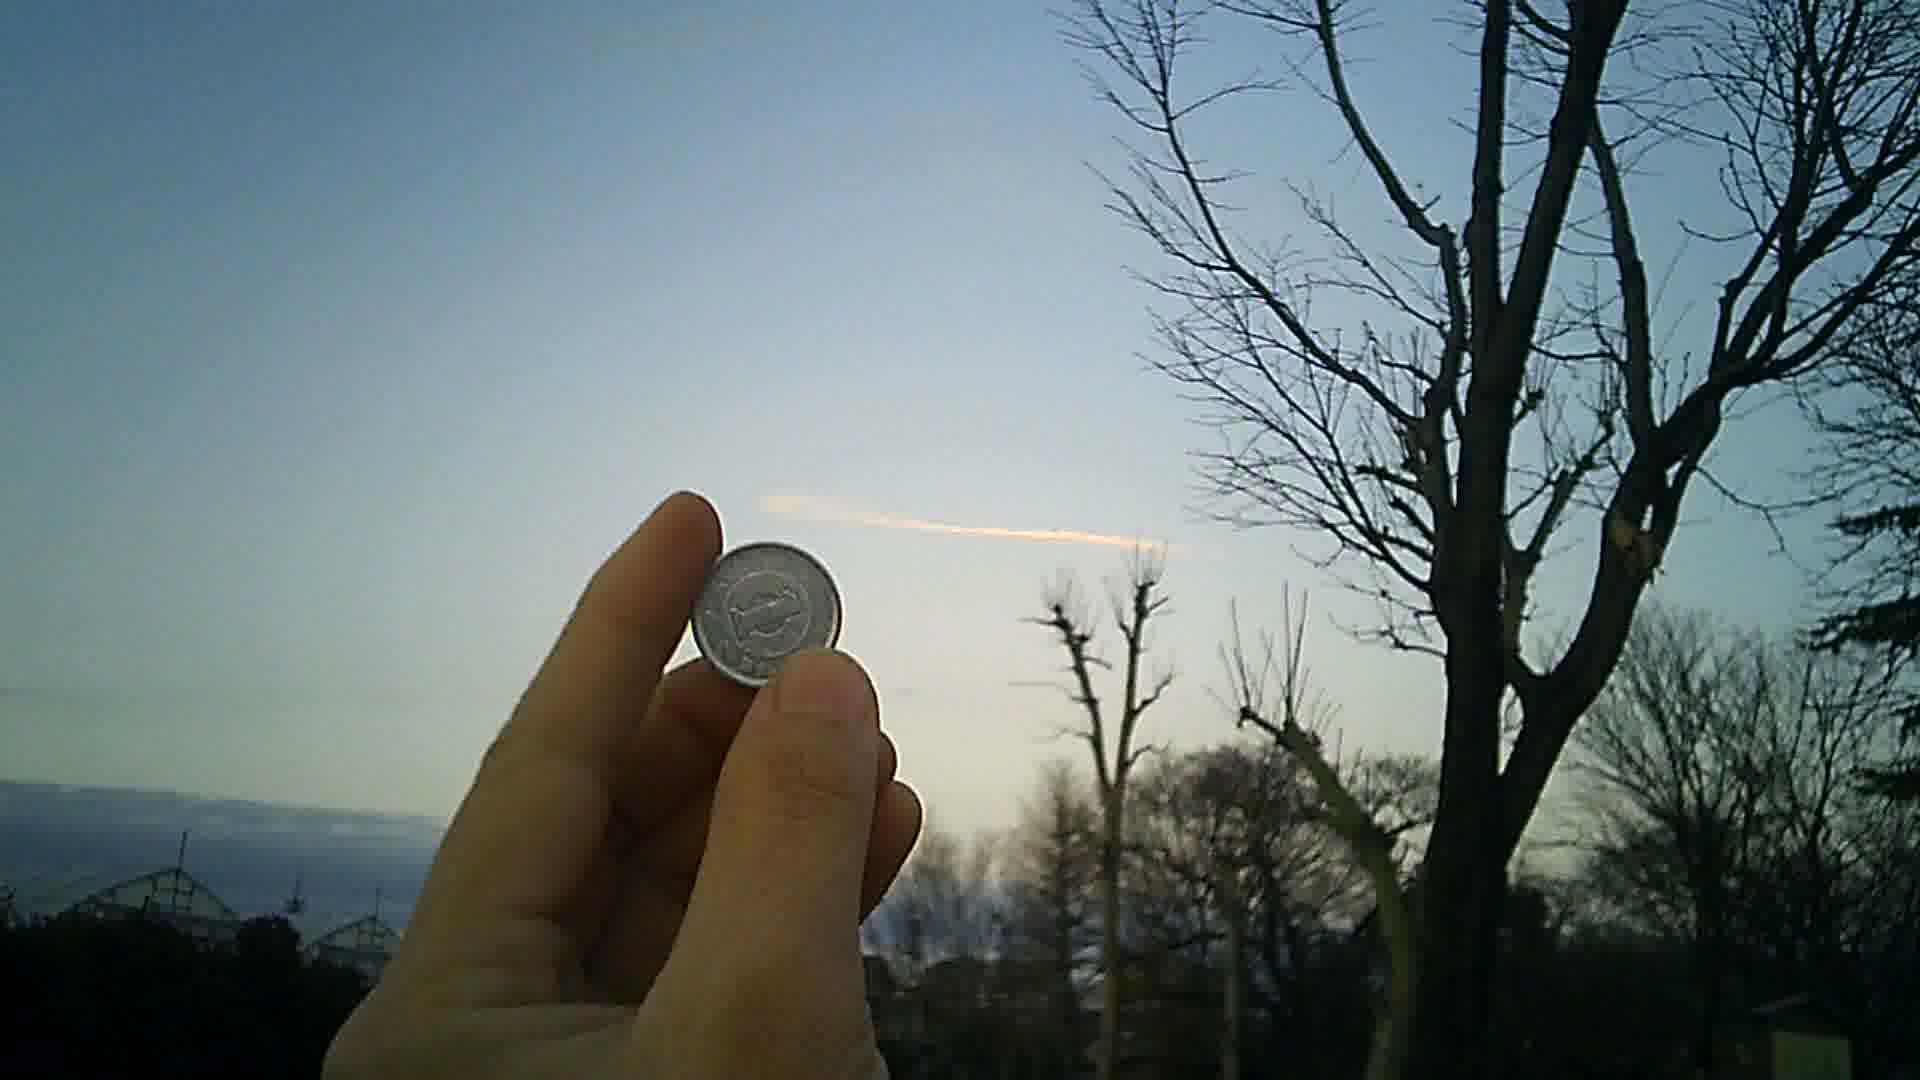1 Yen: (686, 526, 852, 702)
